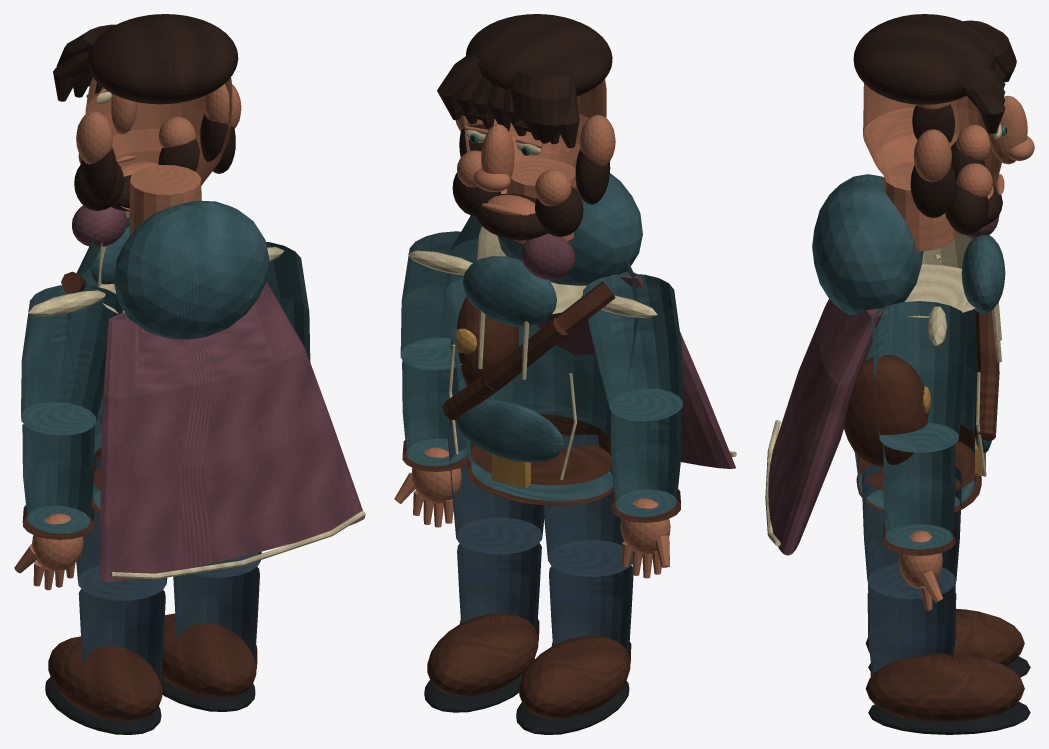
File: windfall-wayfarer.glb
3 renders of one model, left to right at view 1: azimuth 30°, elevation 25°; view 2: azimuth 150°, elevation 25°; view 3: azimuth 270°, elevation 25°, orthographic. The views are drawn at different scales.
Visible parts, largest first — view 1: cape-surface-scarf, body-surface-coat, head-surface-hair, arm-L-surface-coat, head-surface-skin, foot-L-surface-leather, forearm-L-surface-coat, foot-R-surface-leather, shin-L-surface-pants, shin-R-surface-pants, neck-surface-skin, leg-L-surface-pants (+10 smaller); view 2: body-surface-coat, head-surface-hair, body-surface-leather, arm-L-surface-coat, head-surface-skin, foot-L-surface-leather, foot-R-surface-leather, forearm-L-surface-coat, leg-L-surface-pants, arm-R-surface-coat, leg-R-surface-pants, shin-R-surface-pants (+14 smaller); view 3: head-surface-hair, body-surface-coat, cape-surface-scarf, body-surface-leather, head-surface-skin, arm-R-surface-coat, foot-R-surface-leather, forearm-R-surface-coat, shin-R-surface-pants, leg-R-surface-pants, body-surface-linen, foot-L-surface-leather (+6 smaller).
Part boxes in pixels (x1,y1,x2,y2): cape-surface-scarf: [99, 282, 364, 582]; body-surface-coat: [66, 200, 269, 508]; head-surface-hair: [53, 14, 238, 211]; arm-L-surface-coat: [21, 285, 123, 435]; head-surface-skin: [76, 77, 241, 210]; foot-L-surface-leather: [48, 636, 162, 721]; forearm-L-surface-coat: [22, 424, 94, 533]; foot-R-surface-leather: [162, 613, 256, 698]; shin-L-surface-pants: [78, 589, 165, 684]; shin-R-surface-pants: [173, 567, 259, 662]; neck-surface-skin: [129, 165, 201, 236]; leg-L-surface-pants: [69, 457, 167, 600]; body-surface-coat: [445, 173, 642, 500]; head-surface-hair: [437, 14, 612, 240]; body-surface-leather: [442, 281, 615, 505]; arm-L-surface-coat: [582, 273, 682, 421]; head-surface-skin: [455, 79, 615, 215]; foot-L-surface-leather: [519, 635, 630, 718]; foot-R-surface-leather: [427, 613, 538, 696]; forearm-L-surface-coat: [611, 409, 681, 516]; leg-L-surface-pants: [540, 434, 632, 576]; arm-R-surface-coat: [400, 231, 500, 370]; leg-R-surface-pants: [447, 421, 544, 554]; shin-R-surface-pants: [457, 543, 541, 633]; head-surface-hair: [853, 14, 1016, 234]; body-surface-coat: [812, 174, 1005, 509]; cape-surface-scarf: [768, 299, 884, 555]; body-surface-leather: [843, 310, 999, 512]; head-surface-skin: [863, 83, 1034, 220]; arm-R-surface-coat: [871, 301, 966, 452]; foot-R-surface-leather: [865, 653, 1024, 721]; forearm-R-surface-coat: [883, 444, 955, 549]; shin-R-surface-pants: [867, 588, 956, 676]; leg-R-surface-pants: [861, 464, 962, 599]; body-surface-linen: [904, 231, 1001, 476]; foot-L-surface-leather: [865, 608, 1024, 665].
Size of the model in its own units: 1.32 by 3.05 by 1.11.
10 materials, 10 textured.
